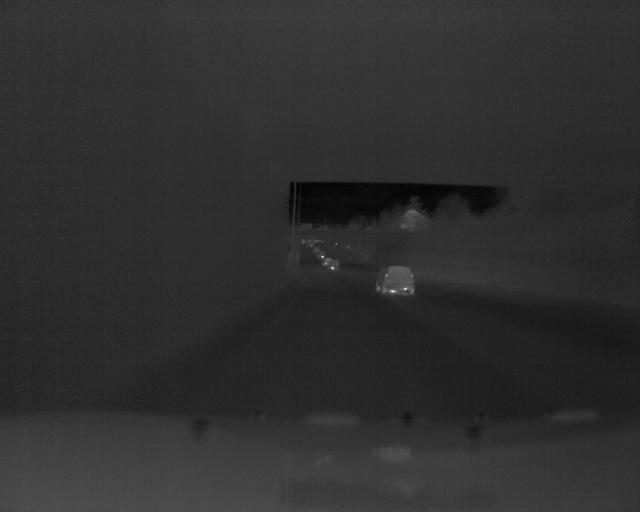car: (374, 263, 416, 296), (324, 257, 343, 273)
